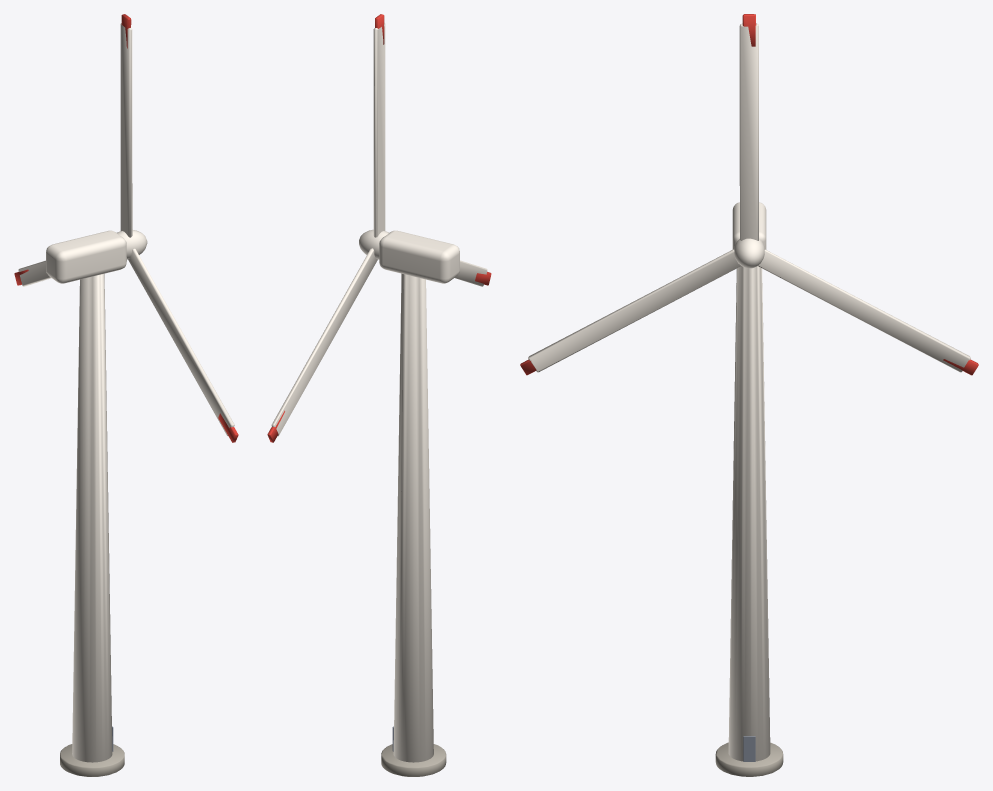
Rendered from wind_turbine.glb.
3 renders of one model, left to right at view 1: azimuth 30°, elevation 25°; view 2: azimuth 150°, elevation 25°; view 3: azimuth 270°, elevation 25°, orthographic. The views are drawn at different scales.
Parts seen in each view (by area): view 1: wind_turbine.001, rotor.009; view 2: wind_turbine.001, rotor.009; view 3: wind_turbine.001, rotor.009.
Boxes of the visible parts, box(x1,y1,x2,y2) form: wind_turbine.001: box(46, 230, 126, 776); rotor.009: box(14, 14, 238, 442); wind_turbine.001: box(379, 230, 459, 776); rotor.009: box(267, 14, 491, 442); wind_turbine.001: box(715, 202, 783, 776); rotor.009: box(520, 14, 978, 375).
Bounding box in the file's own units: 8.02 × 59.93 × 32.51.
Materials: 1 (1 with a texture image).
